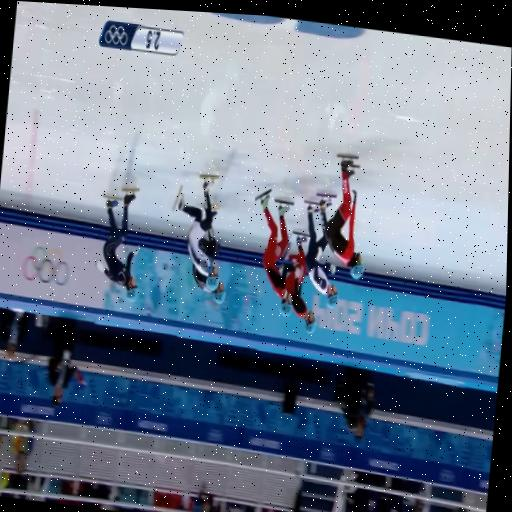Skater: (173, 174, 218, 289), (255, 189, 294, 315), (324, 154, 363, 278), (95, 188, 138, 300), (304, 195, 337, 308), (285, 231, 315, 332), (192, 264, 224, 303)
